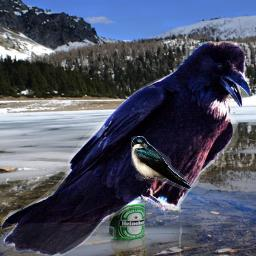Crow: (1, 41, 251, 256)
Swallow: (131, 136, 192, 190)
